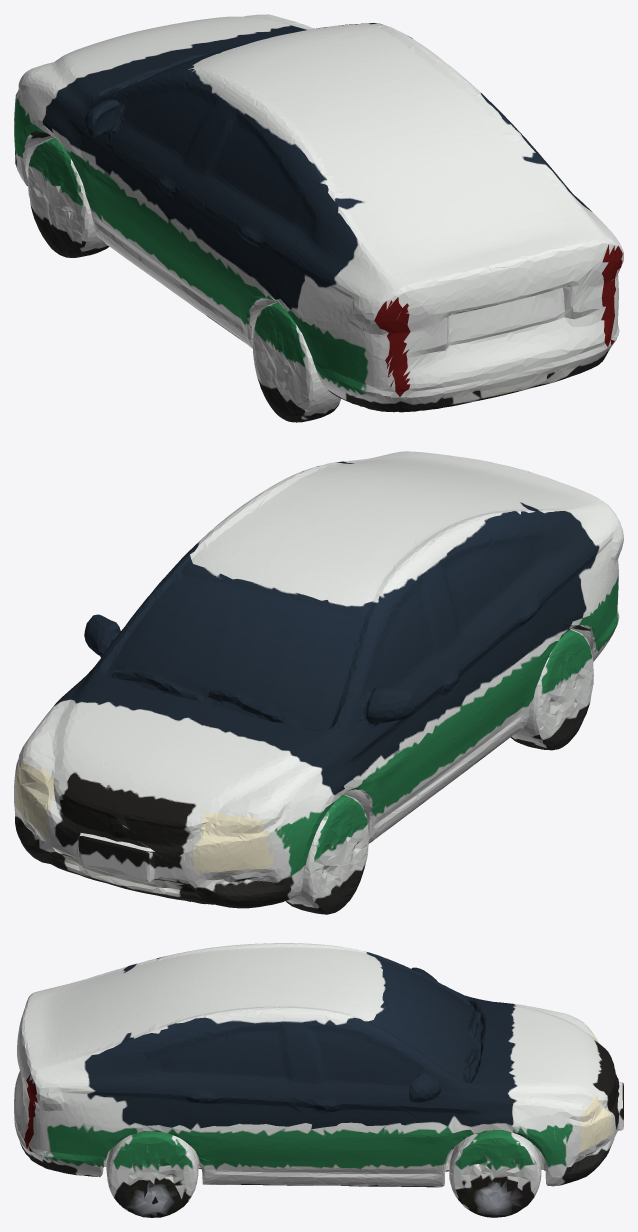
The model's file is police.glb.
3 views of the same model, one above another, from view 1: azimuth 30°, elevation 25°; view 2: azimuth 150°, elevation 25°; view 3: azimuth 270°, elevation 25° (orthographic). The views are drawn at different scales.
Visible parts, largest first — view 1: body, taillights_rear; view 2: body, headlights_front; view 3: body, wheel_2, wheel_3, headlights_front, taillights_rear.
Part boxes in pixels (x1,y1,x2,y2): body: (14,14,623,422); taillights_rear: (363,244,622,396); body: (14,451,623,914); headlights_front: (14,760,273,874); body: (14,943,623,1217); wheel_2: (463,1179,524,1217); wheel_3: (124,1180,181,1217); headlights_front: (554,1028,613,1152); taillights_rear: (24,1074,37,1151).
Bounding box in the file's own units: 98.52 × 72.46 × 208.
Materials: 7 (1 with a texture image).
